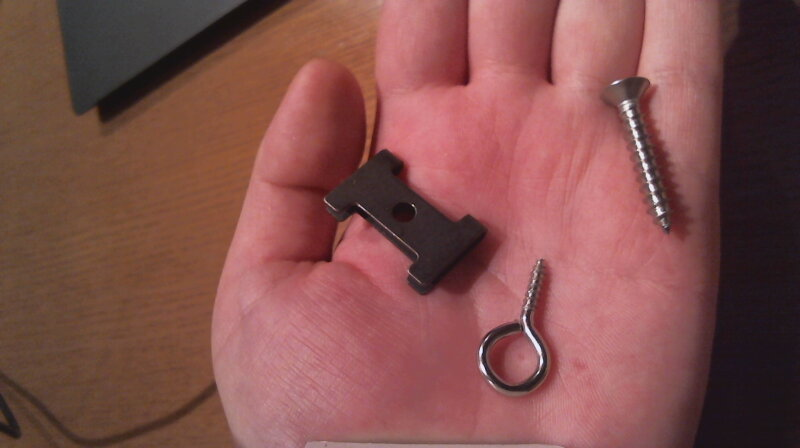O001: (472, 253, 558, 400)
O002: (317, 143, 491, 291)
S001: (596, 72, 673, 234)
